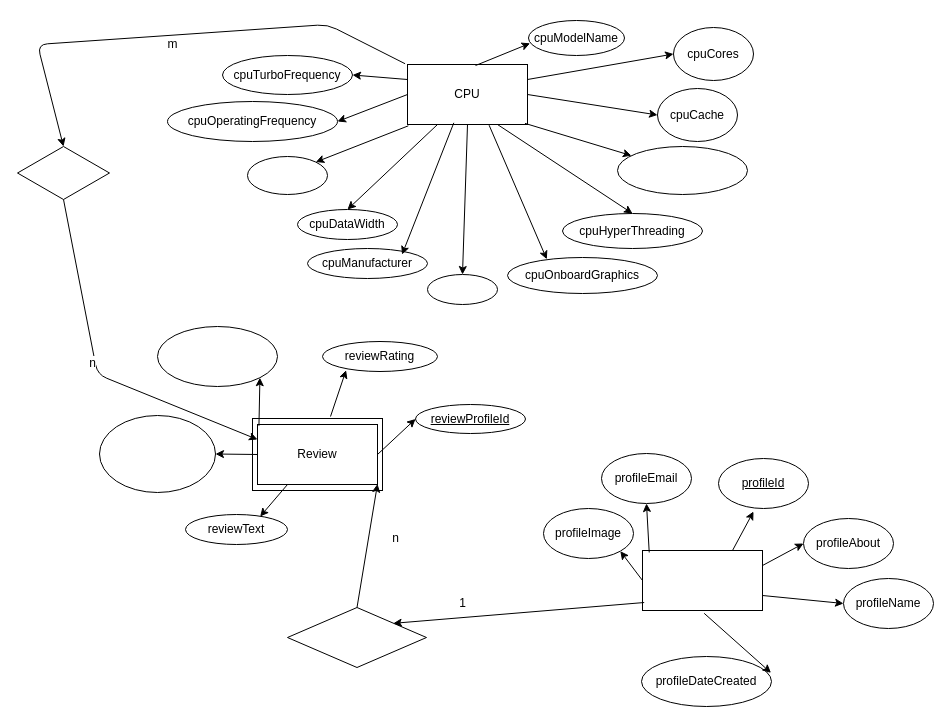
This 951x724 diagram has some shape labels left out. Each missing label, with the box of its shape:
cpuCoolerIncluded: (616, 146, 748, 194)
cpuId: (426, 274, 498, 304)
cpuSocket: (246, 156, 328, 194)
Is Reviewed: (16, 146, 110, 200)
Profile: (642, 550, 762, 610)
reviewCpuId: (98, 414, 216, 492)
reviewTimeDate: (156, 326, 278, 386)
Writes Review: (286, 606, 426, 668)
